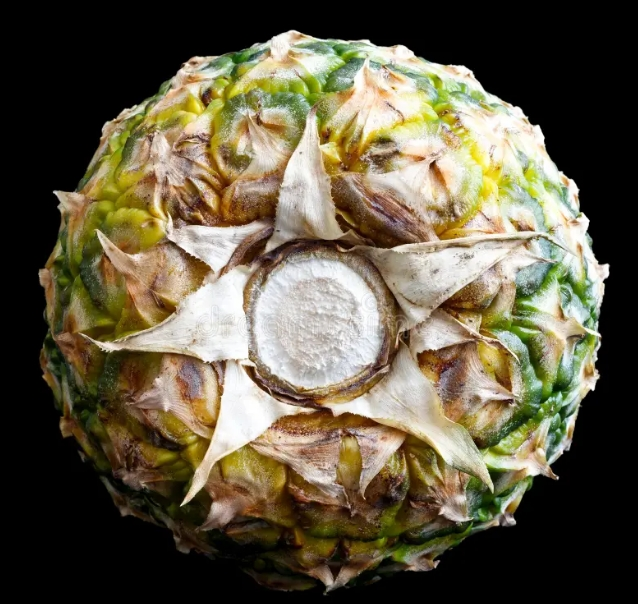pineapple: (39, 18, 601, 597)
